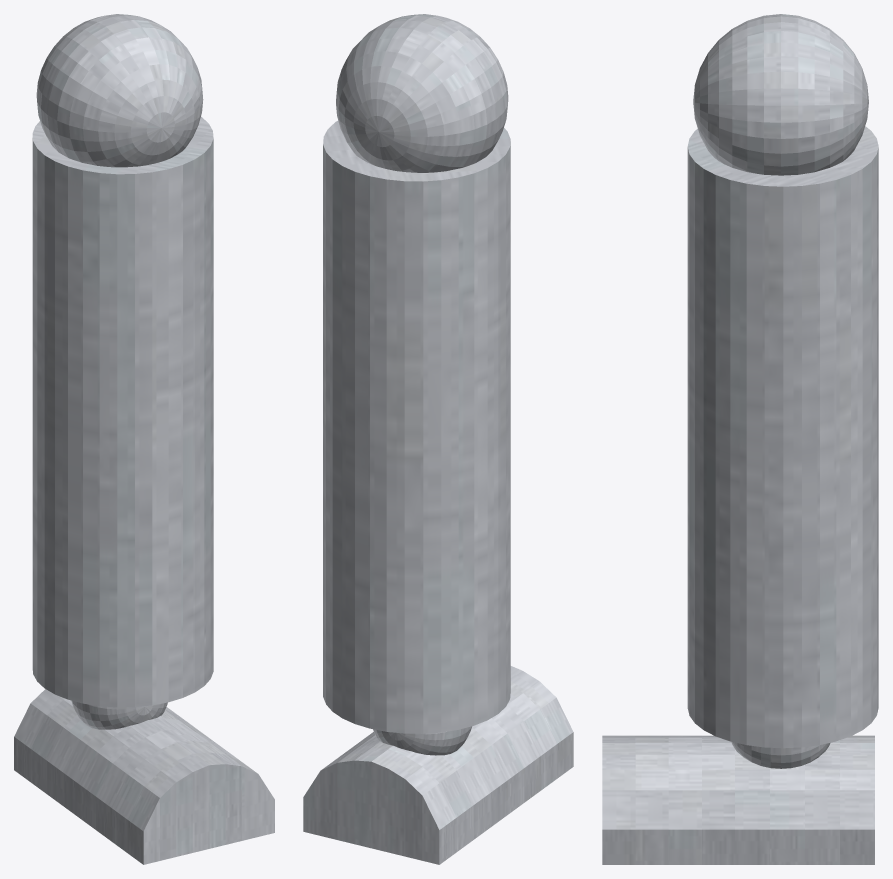
The model's file is leg2.obj.
3 renders of one model, left to right at view 1: azimuth 30°, elevation 25°; view 2: azimuth 150°, elevation 25°; view 3: azimuth 270°, elevation 25°, orthographic. The views are drawn at different scales.
Parts seen in each view (by area): view 1: Limb1_Cylinder.001, Cube_Cube.001, Sphere, Sphere.001_Sphere.002; view 2: Limb1_Cylinder.001, Cube_Cube.001, Sphere, Sphere.001_Sphere.002; view 3: Limb1_Cylinder.001, Cube_Cube.001, Sphere, Sphere.001_Sphere.002.
Part boxes in pixels (box(x1,y1,x2,y2)): Limb1_Cylinder.001: box(32, 116, 213, 707); Cube_Cube.001: box(14, 689, 274, 864); Sphere: box(36, 14, 203, 167); Sphere.001_Sphere.002: box(71, 700, 167, 729); Limb1_Cylinder.001: box(323, 120, 510, 733); Cube_Cube.001: box(303, 666, 573, 864); Sphere: box(336, 14, 508, 172); Sphere.001_Sphere.002: box(373, 726, 471, 755); Limb1_Cylinder.001: box(687, 126, 878, 748); Cube_Cube.001: box(602, 735, 874, 864); Sphere: box(693, 14, 868, 175); Sphere.001_Sphere.002: box(731, 742, 830, 768).
Bounding box in the file's own units: 0.1977 × 0.9211 × 0.286.
Materials: 3 (3 with a texture image).
